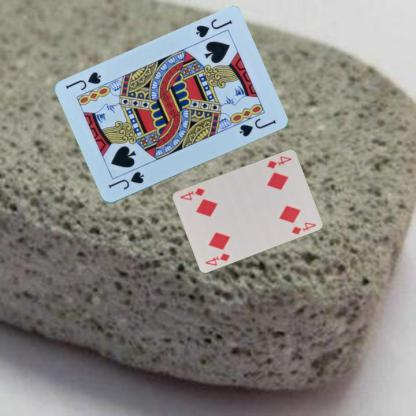4d: (265, 153, 293, 170), (203, 250, 231, 267)
Js: (192, 16, 233, 39), (105, 169, 146, 191)
